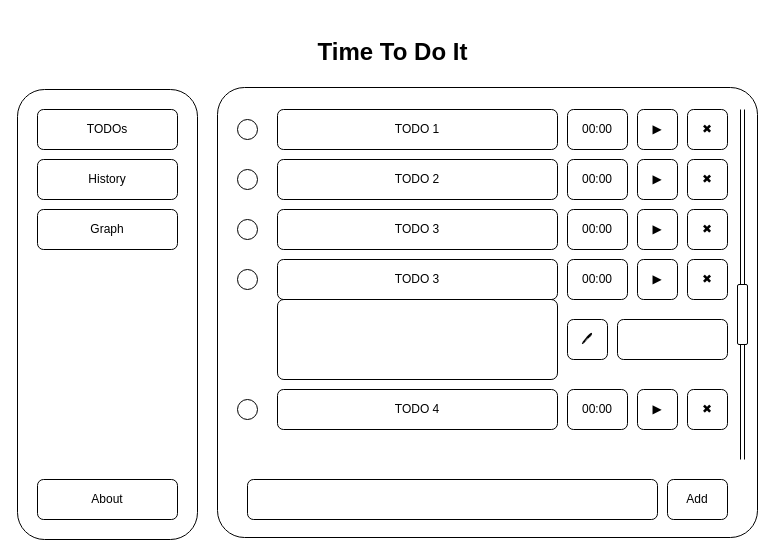
Some shapes in this 775 by 557 pixel diagram are drawn without their labels. The centre of each missing label's shape, as x and y in pixels:
Description: [417,339]
new TODO: [452,499]
Reset Timer: [672,339]
